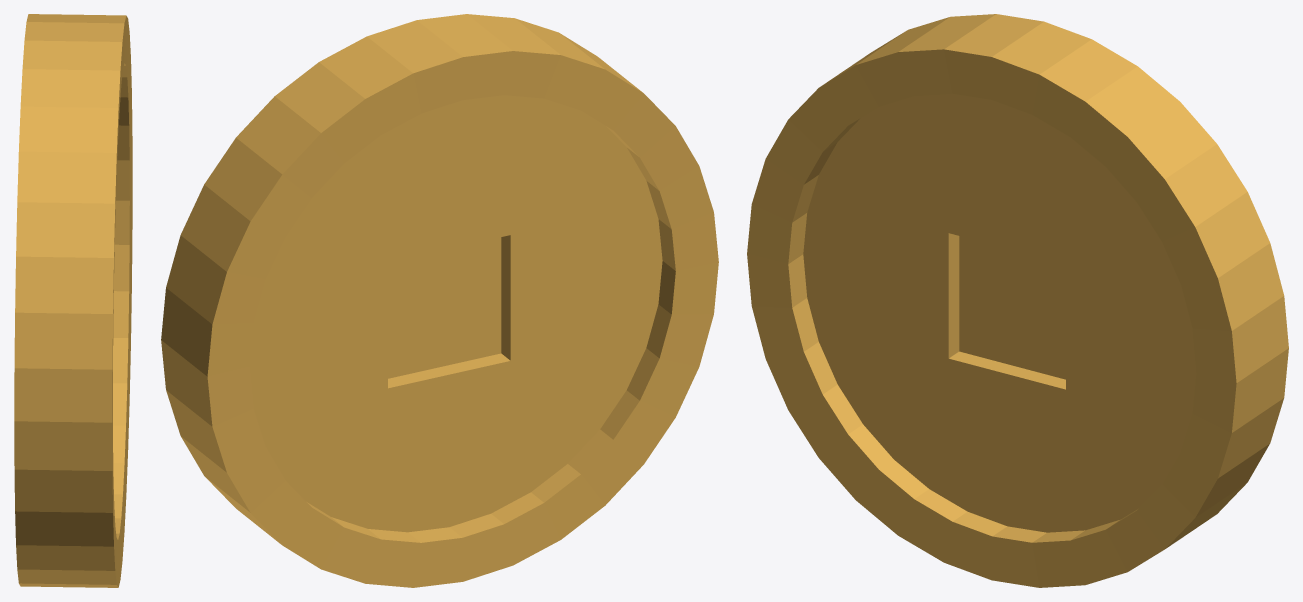
The model's file is Coin.fbx.
The picture shows the model from 3 angles, left to right: view 1: azimuth 30°, elevation 25°; view 2: azimuth 150°, elevation 25°; view 3: azimuth 270°, elevation 25°; orthographic projection.
Visible parts, largest first — view 1: Cylinder; view 2: Cylinder; view 3: Cylinder.
Part boxes in pixels (x1=…): Cylinder: x1=14, y1=14, x2=132, y2=587; Cylinder: x1=161, y1=14, x2=718, y2=587; Cylinder: x1=747, y1=14, x2=1288, y2=587.
Size of the model in its own units: 135 by 200 by 188.
